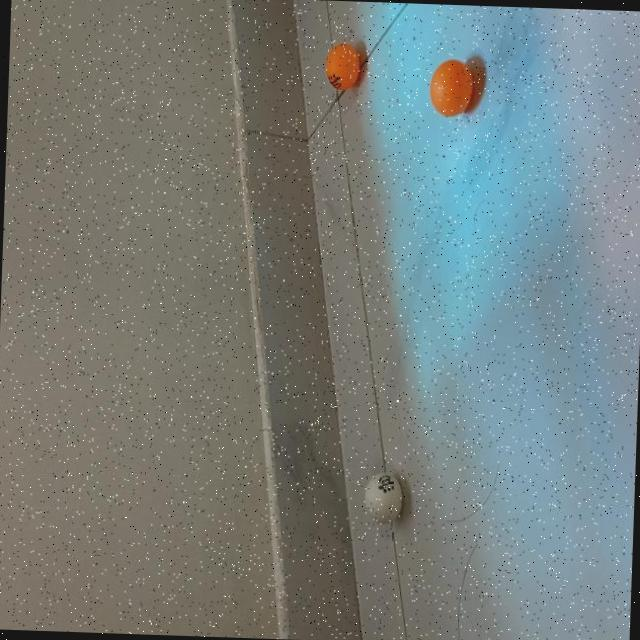ping-pong-ball: (428, 60, 474, 116), (364, 471, 406, 524), (324, 44, 360, 92)
